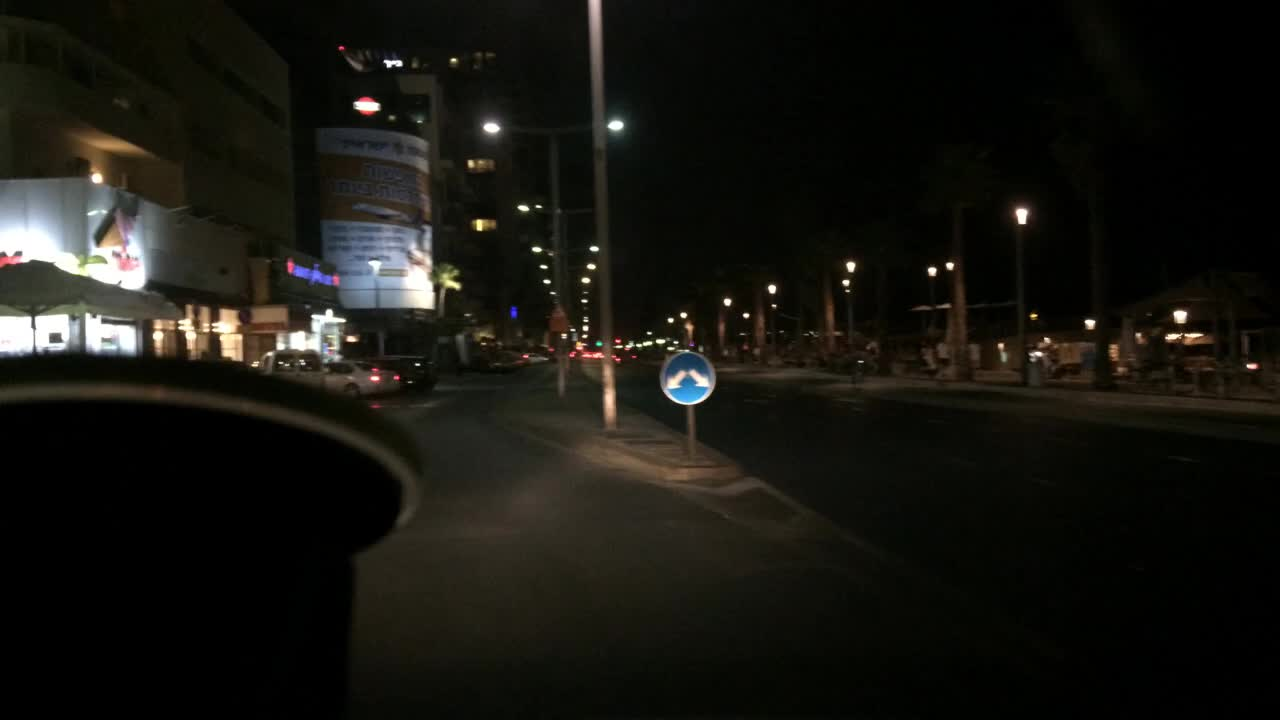car: (248, 347, 360, 401), (785, 328, 878, 369), (361, 352, 442, 395), (324, 358, 402, 401), (748, 329, 788, 361), (485, 347, 528, 374), (527, 340, 557, 360), (720, 341, 746, 361), (612, 346, 640, 364), (516, 349, 549, 363)
person: (913, 337, 938, 380), (932, 333, 953, 372)
traffic sign: (658, 349, 719, 406)
